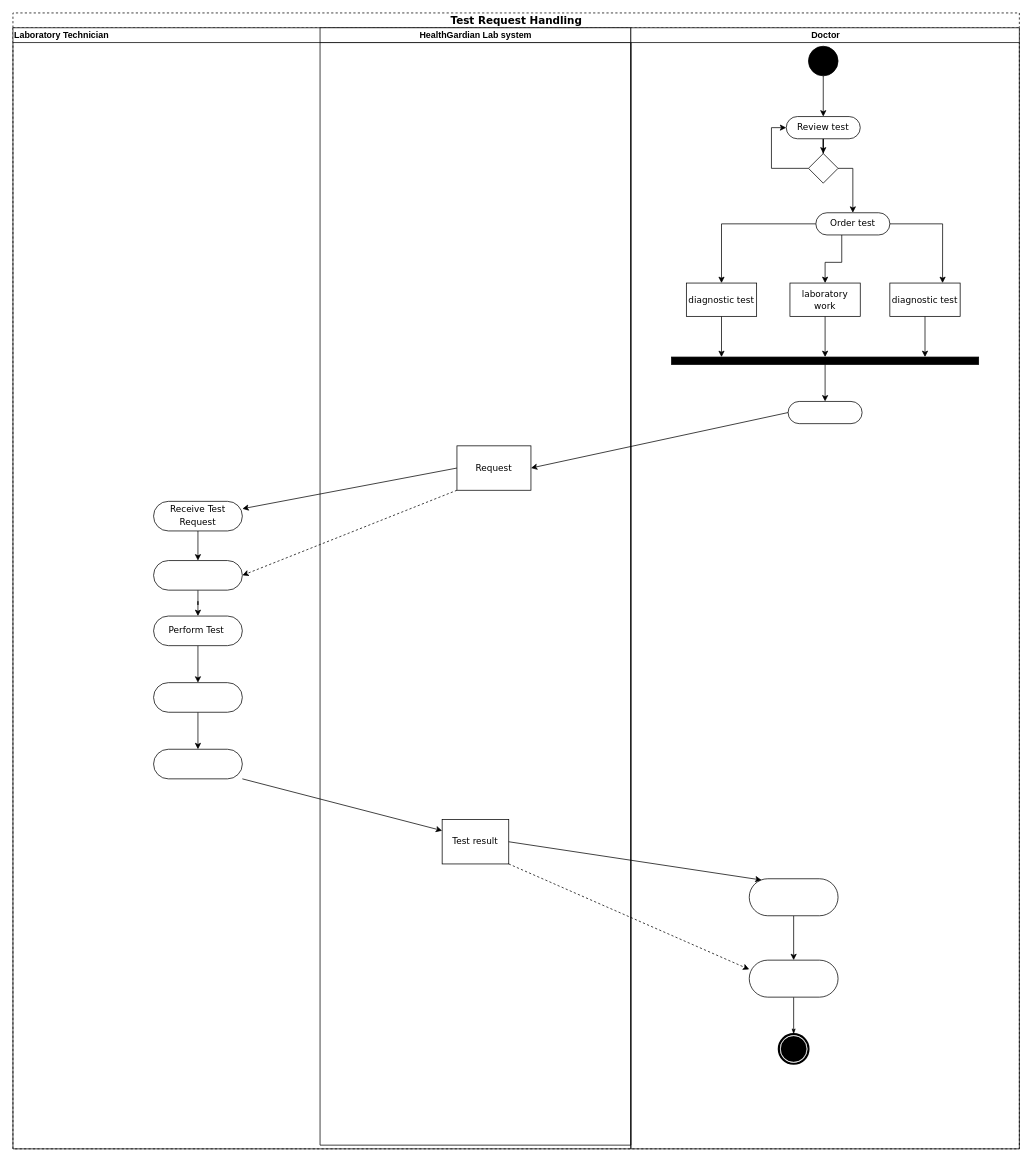
Some shapes in this 1032 by 1162 pixel diagram are drawn without their labels. Each missing label, with the centre of its shape:
"receive test results" goes at (793,897).
"Record Test Results" goes at (197,697).
"Review Test Request" goes at (197,575).
"review test results" goes at (793,978).
"Send request" goes at (824,412).
"Send Test result" goes at (197,764).
